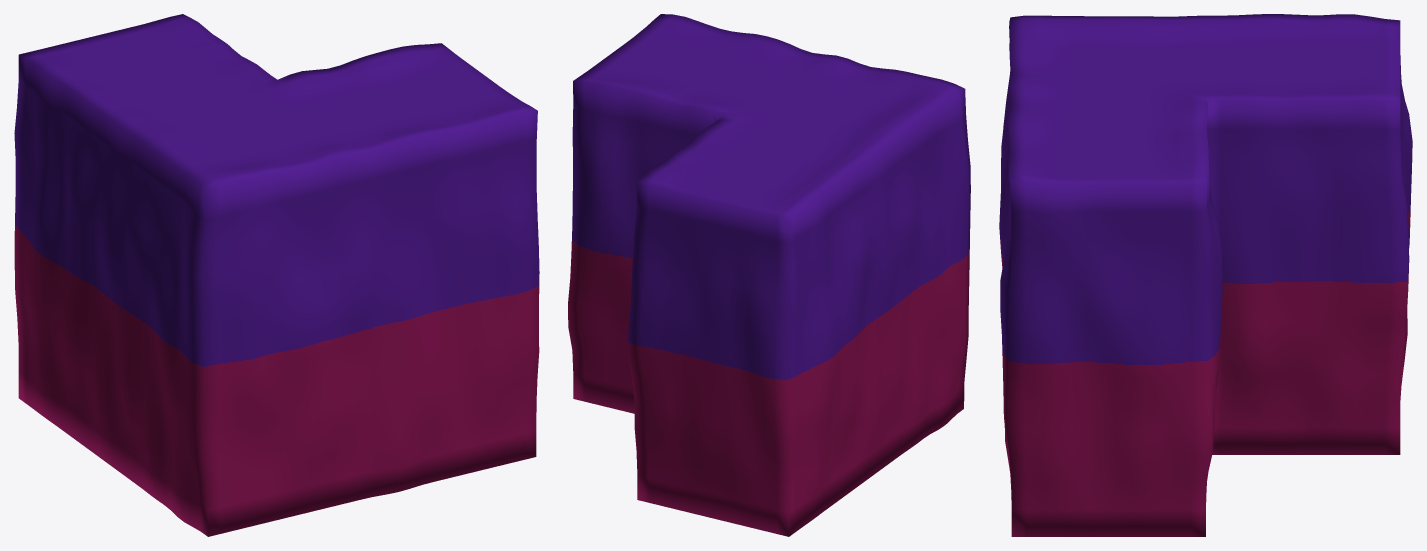
The model's file is Lmodel.fbx.
3 renders of one model, left to right at view 1: azimuth 30°, elevation 25°; view 2: azimuth 150°, elevation 25°; view 3: azimuth 270°, elevation 25°, orthographic. The views are drawn at different scales.
Parts seen in each view (by area): view 1: L; view 2: L; view 3: L.
Part boxes in pixels (x1=…): L: x1=14, y1=14, x2=539, y2=536; L: x1=568, y1=14, x2=970, y2=536; L: x1=999, y1=14, x2=1412, y2=536.
Size of the model in its own units: 213 by 205 by 213.
Materials: 1 (1 with a texture image).
